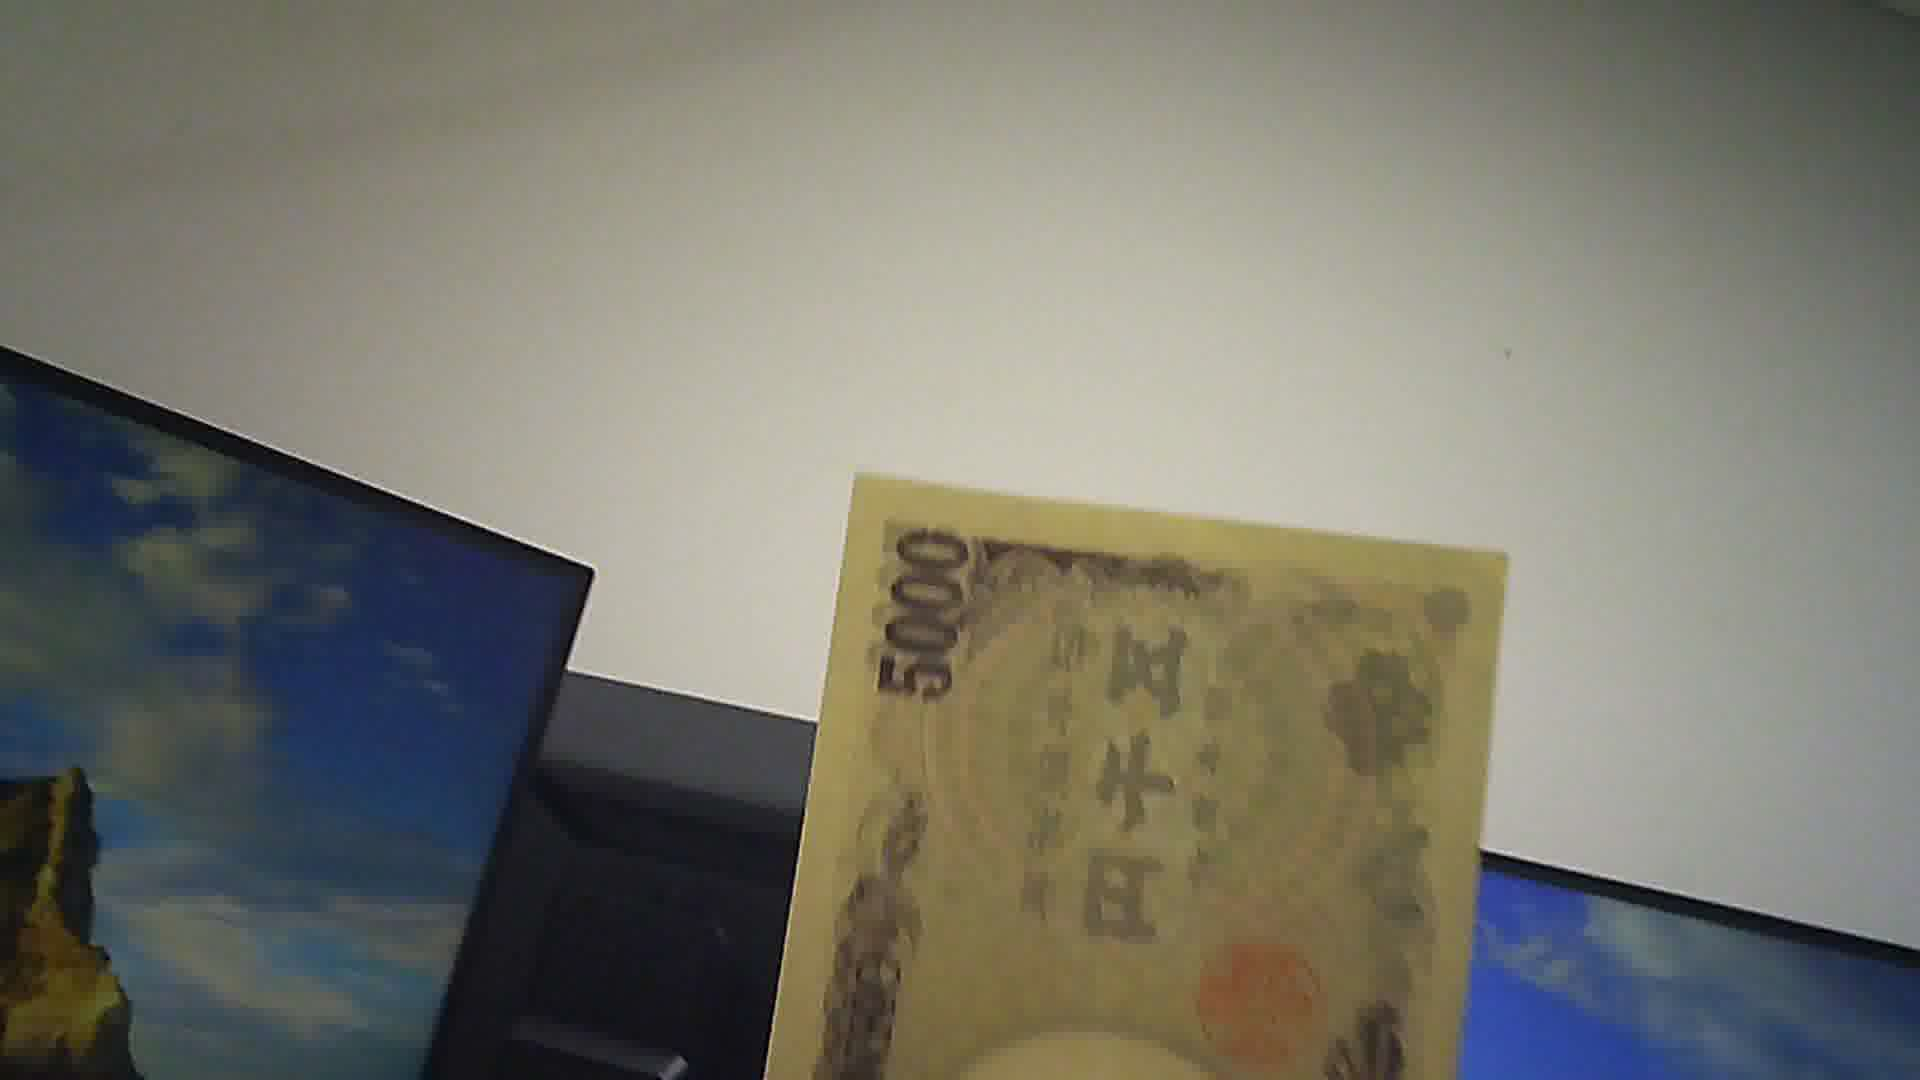5,000 Yen: (789, 485, 1461, 1079)
